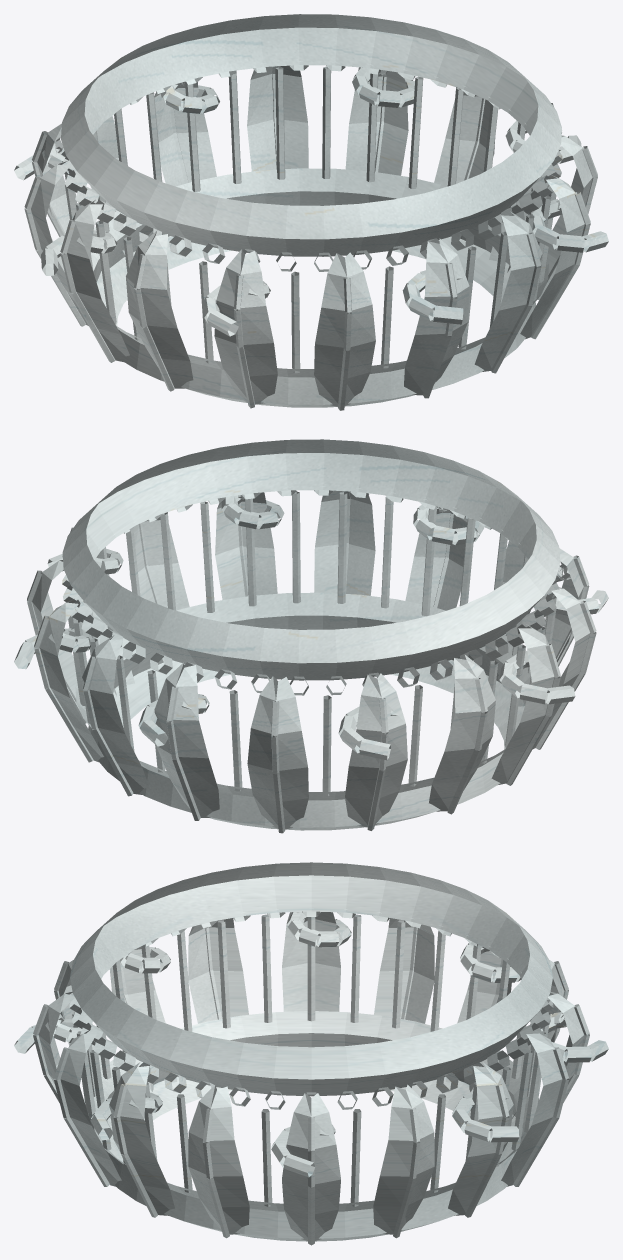
Rendered from poseidon-marine-capital.glb.
3 renders of one model, top to bottom at view 1: azimuth 30°, elevation 25°; view 2: azimuth 150°, elevation 25°; view 3: azimuth 270°, elevation 25°, orthographic. The views are drawn at different scales.
Parts seen in each view (by area): view 1: POS-ARC-V8-001 Marine Capital; view 2: POS-ARC-V8-001 Marine Capital; view 3: POS-ARC-V8-001 Marine Capital.
Part boxes in pixels (bbox=[...]): POS-ARC-V8-001 Marine Capital: bbox=[14, 14, 608, 410]; POS-ARC-V8-001 Marine Capital: bbox=[14, 439, 608, 833]; POS-ARC-V8-001 Marine Capital: bbox=[14, 862, 608, 1245].
Bounding box in the file's own units: 2.86 × 1.1 × 2.86.
1 material, 1 textured.
